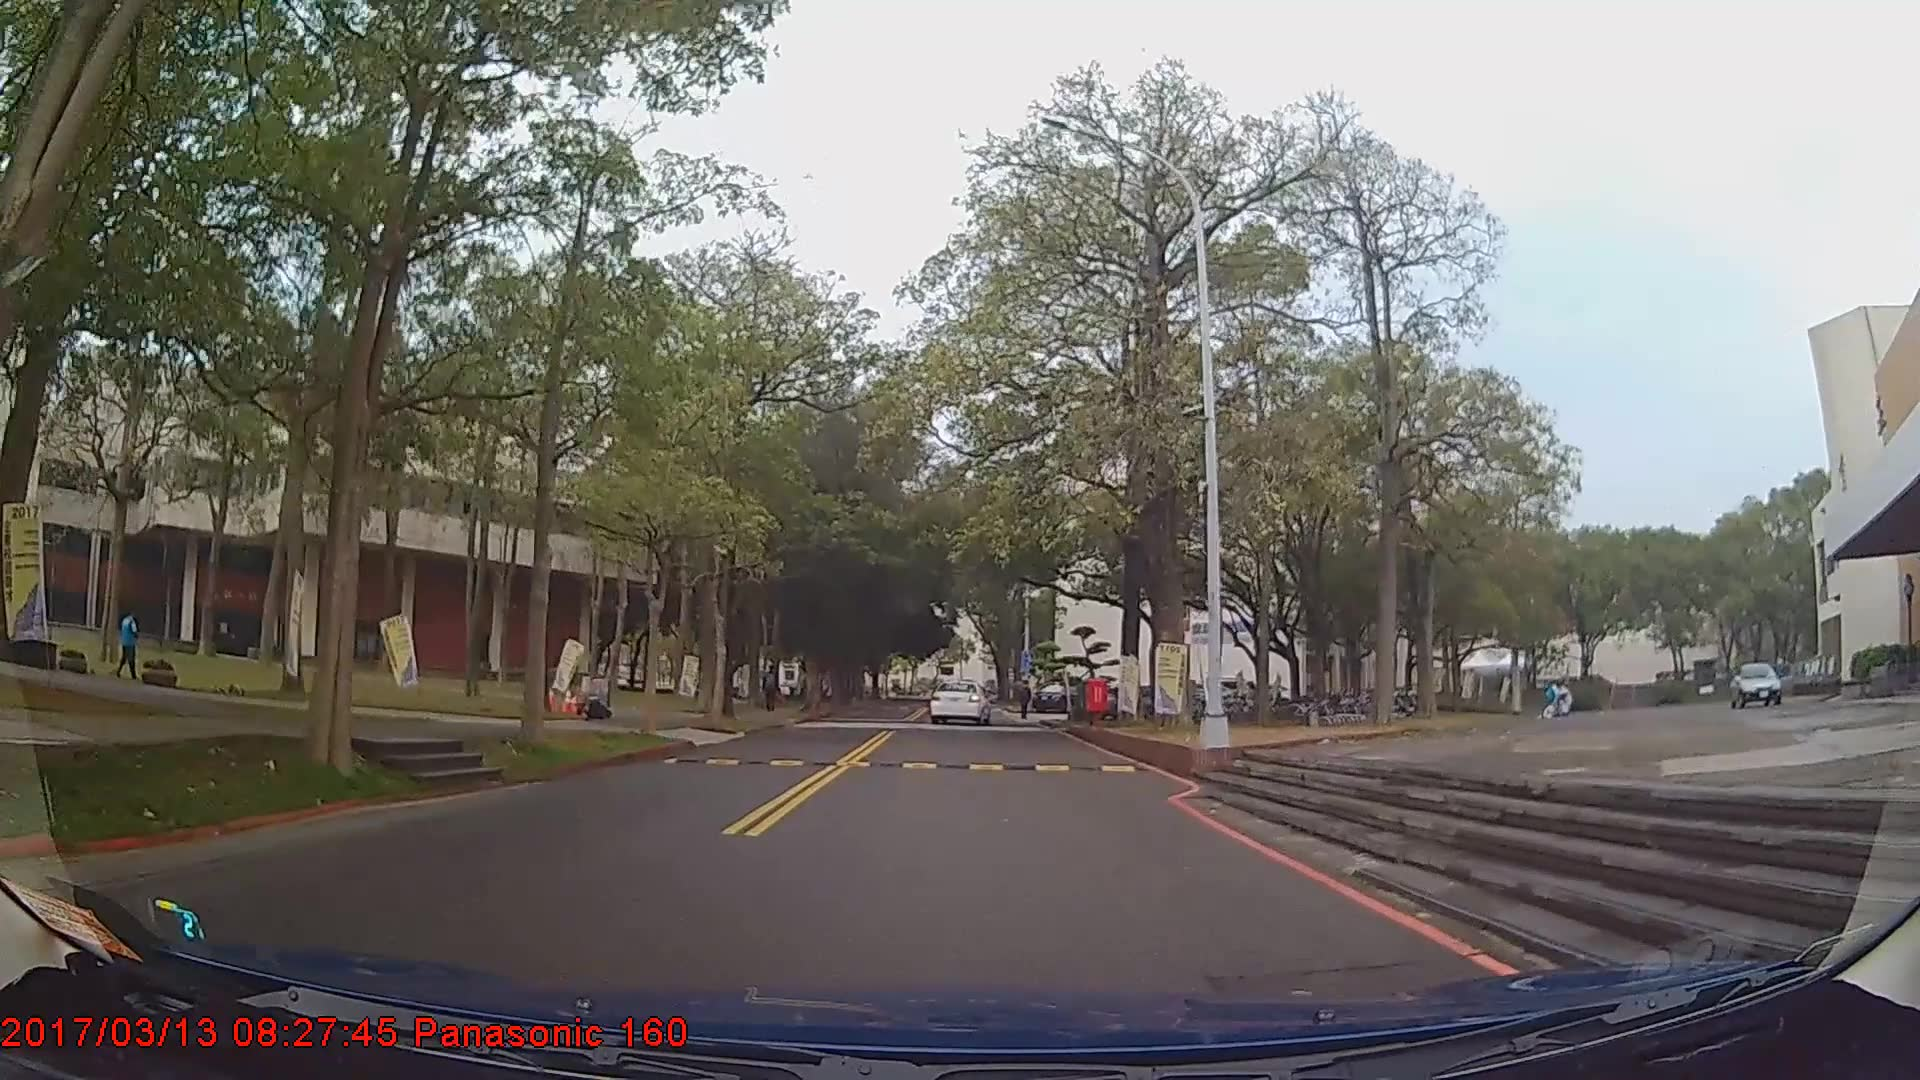pedestrian: (117, 606, 142, 683), (759, 664, 781, 712)
vehicle: (1726, 654, 1797, 705), (928, 679, 993, 726)
